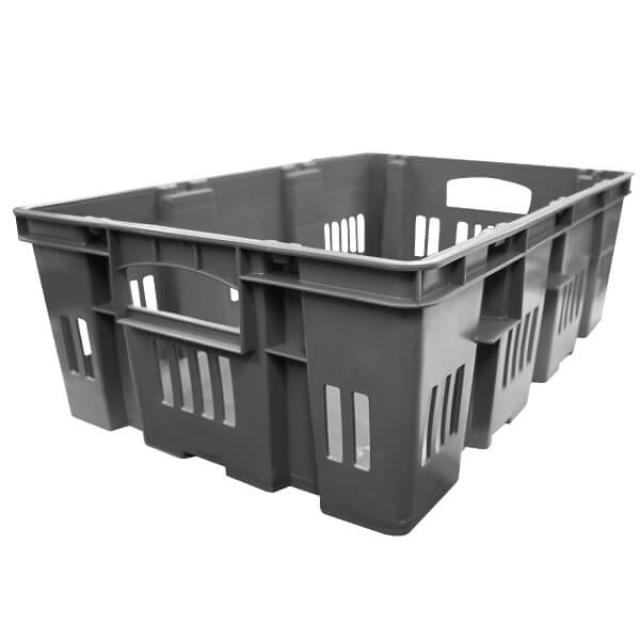basket: (0, 129, 633, 550)
